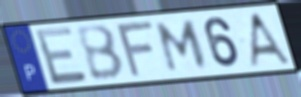6: (203, 15, 241, 70)
A: (247, 11, 294, 69)
B: (74, 23, 128, 83)
E: (32, 25, 90, 88)
F: (115, 18, 157, 80)
M: (154, 18, 210, 74)
